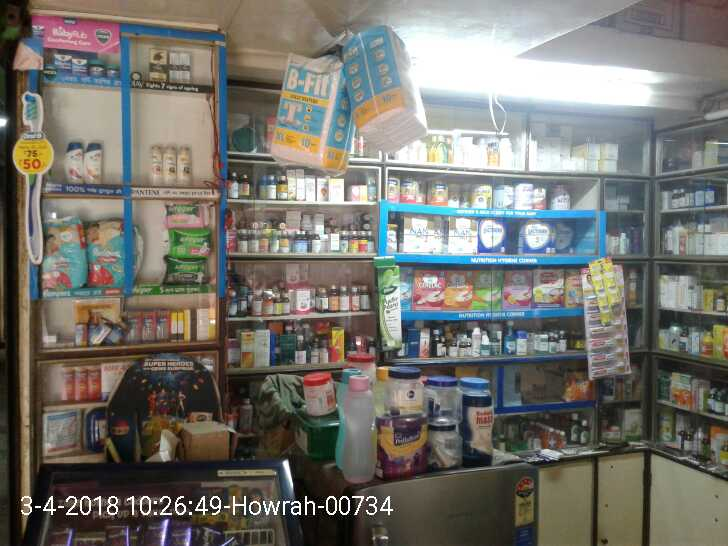vicks: (55, 51, 119, 77)
